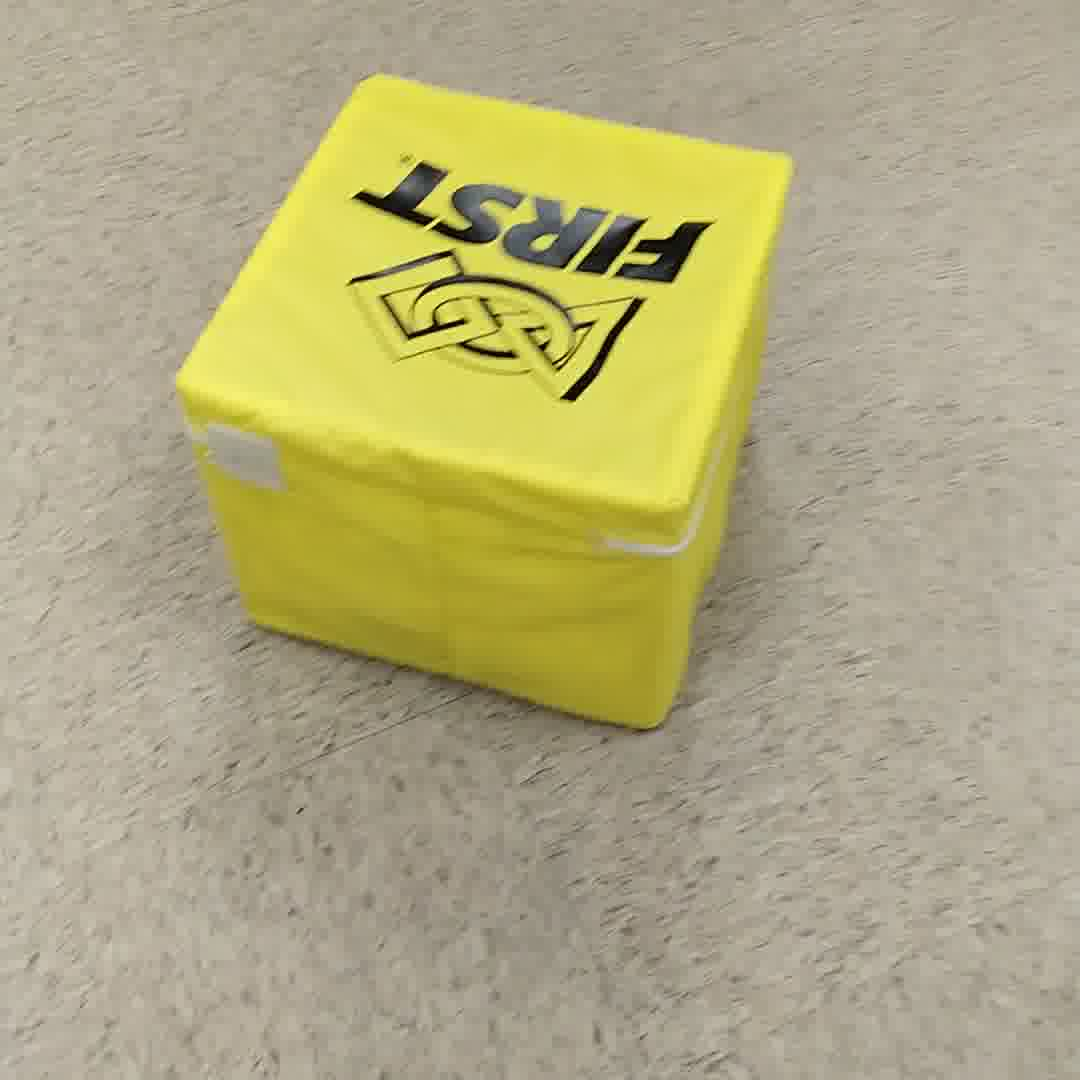box: (187, 68, 809, 744)
